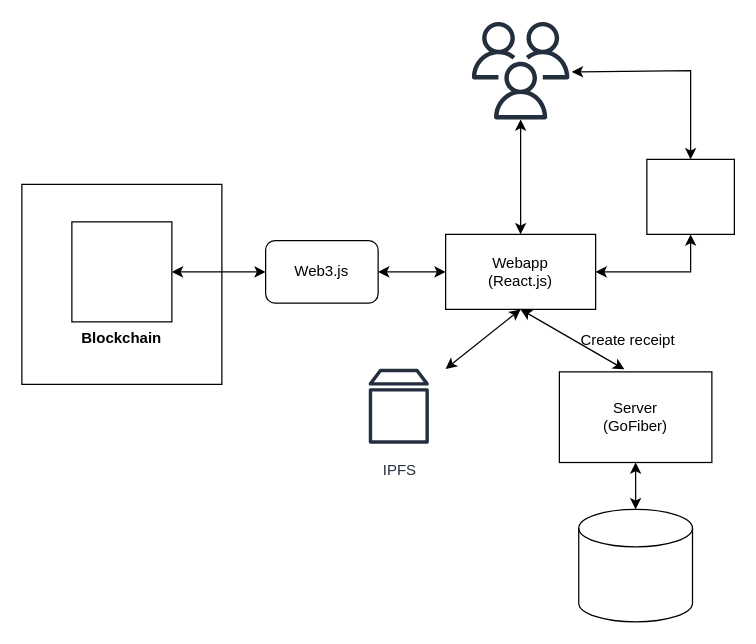
This 756x644 diagram has some shape labels left out. The centre of each missing label's shape, as x and y in pixels:
"Metamask Wallet" belongs at (690,196).
"PostgreSQL DB" belongs at (635,565).
"Solidity Smart contract (MyNFT.sol)" belongs at (121,271).
